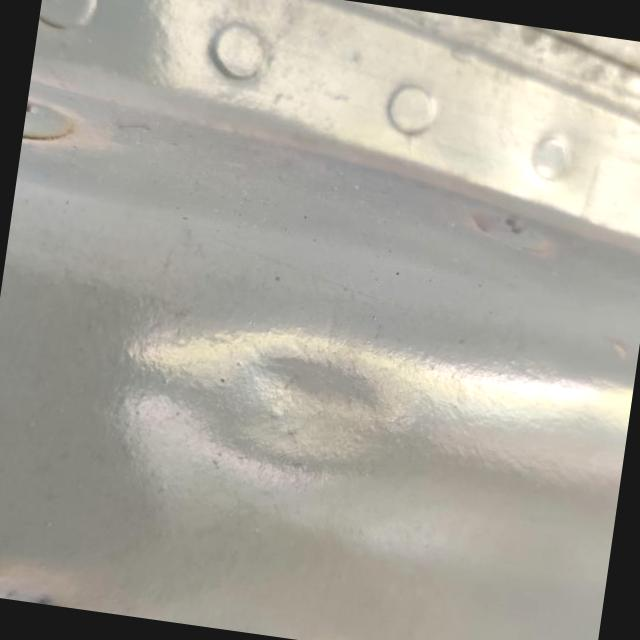dent: (91, 246, 478, 570)
